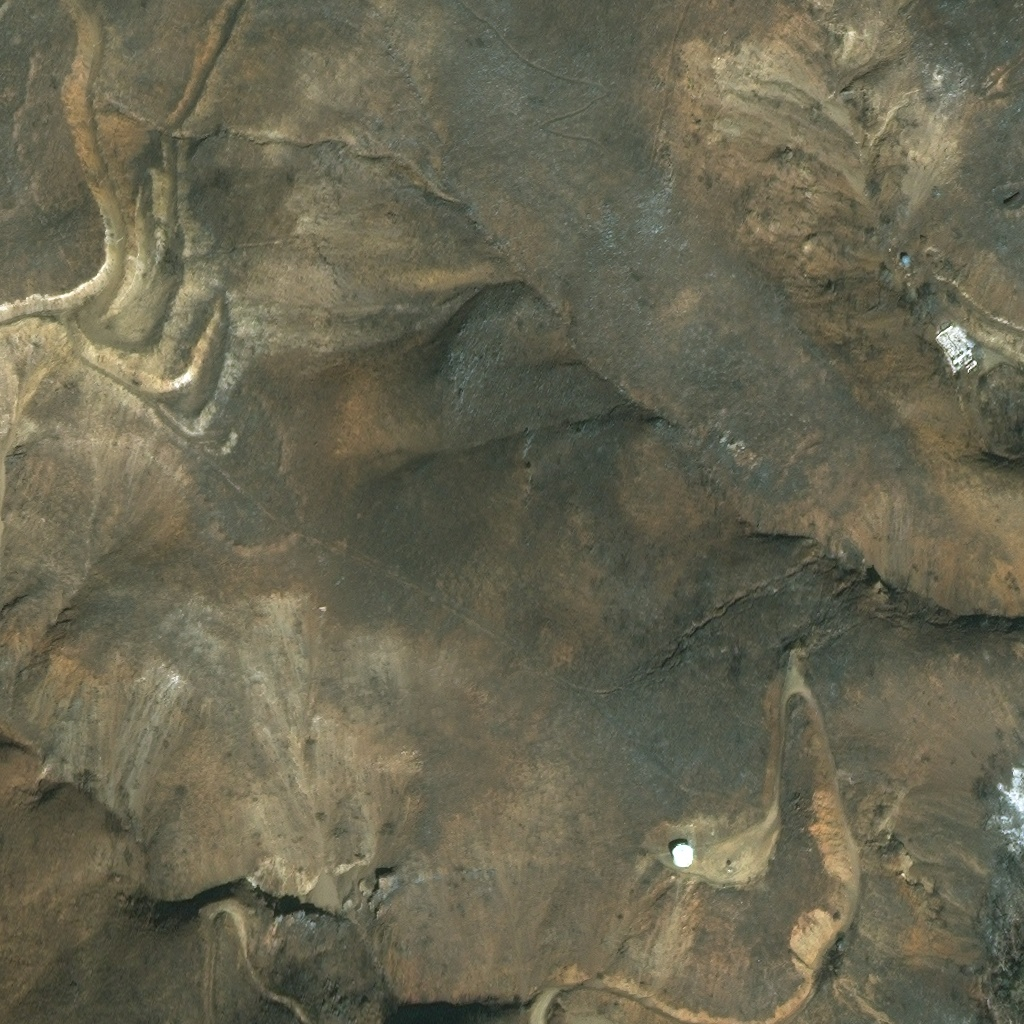0 no-damage: (671, 844, 694, 869), (896, 251, 910, 265)
3 destroyed: (923, 315, 976, 377)
